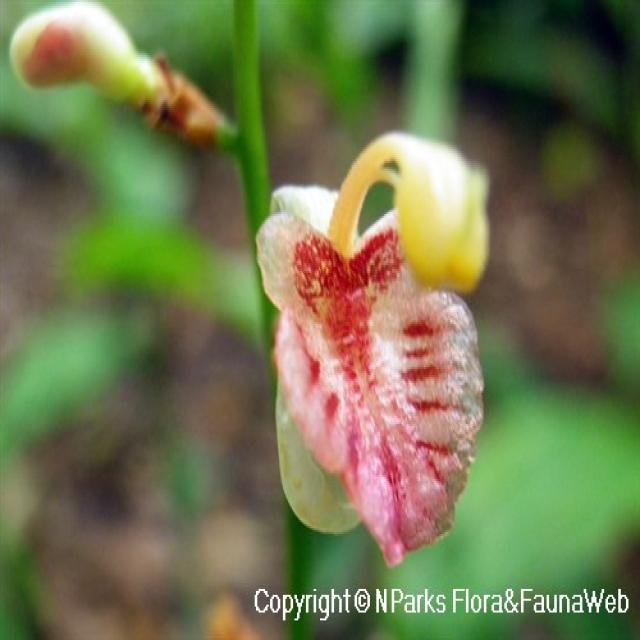Aquatic-Ginger: (254, 130, 492, 571), (8, 0, 220, 167)
